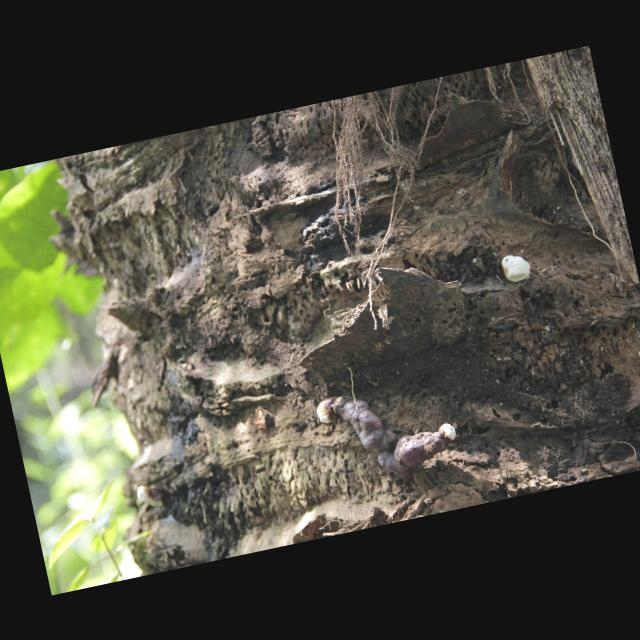ganoderma: (337, 378, 447, 488)
primordium: (501, 252, 535, 286), (136, 482, 171, 513), (315, 397, 341, 427), (438, 422, 459, 447), (638, 349, 640, 360)
